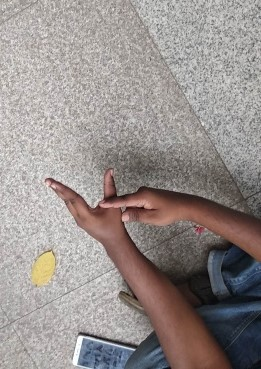dh: (40, 166, 168, 247)
